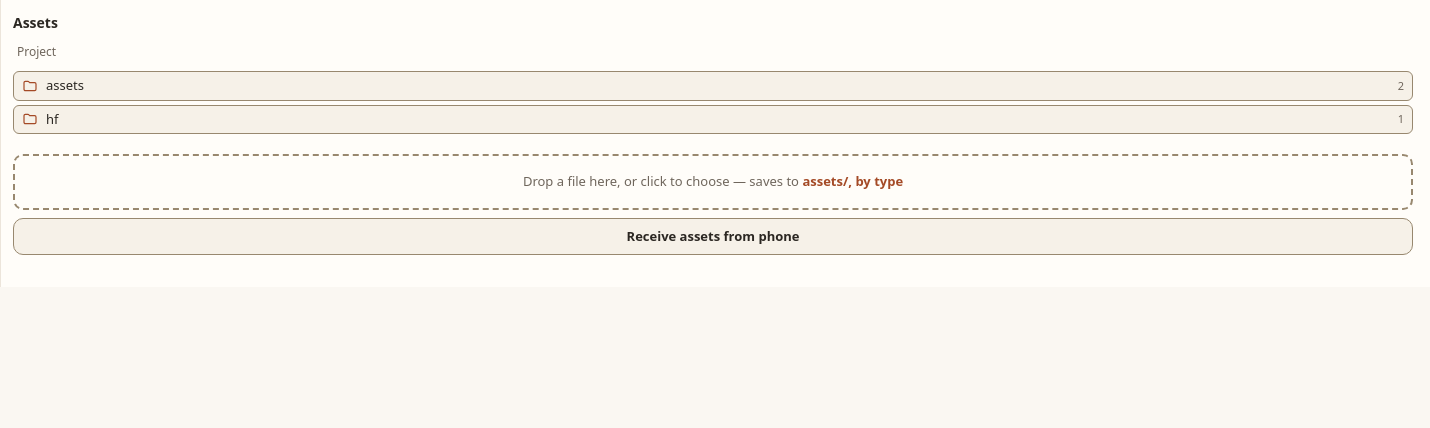
Test: folder navigation › shows an empty state for a folder with nothing to show
Click the button titled "Open assets": (65, 85) [13, 71, 1413, 100]
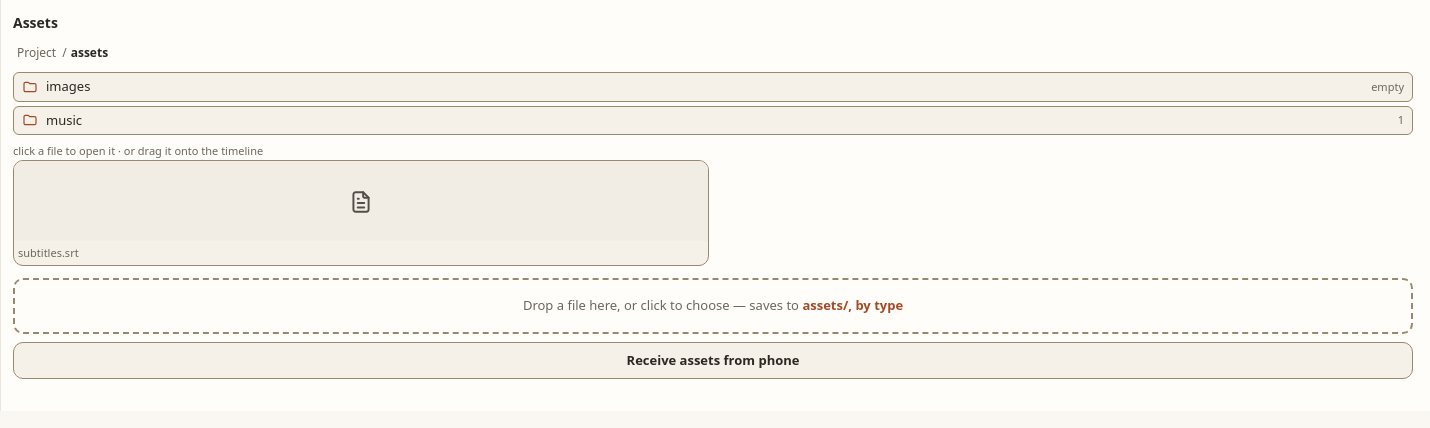
Click the button "images empty": (68, 86) [13, 72, 1413, 102]
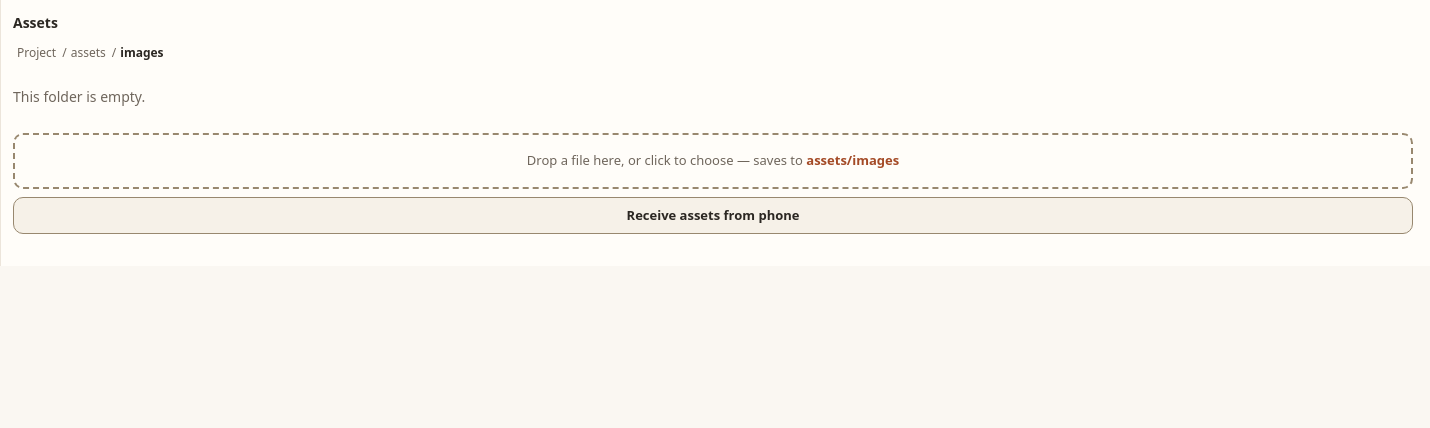
Now the text "This folder is empty." is shown, box [13, 87, 145, 106]
